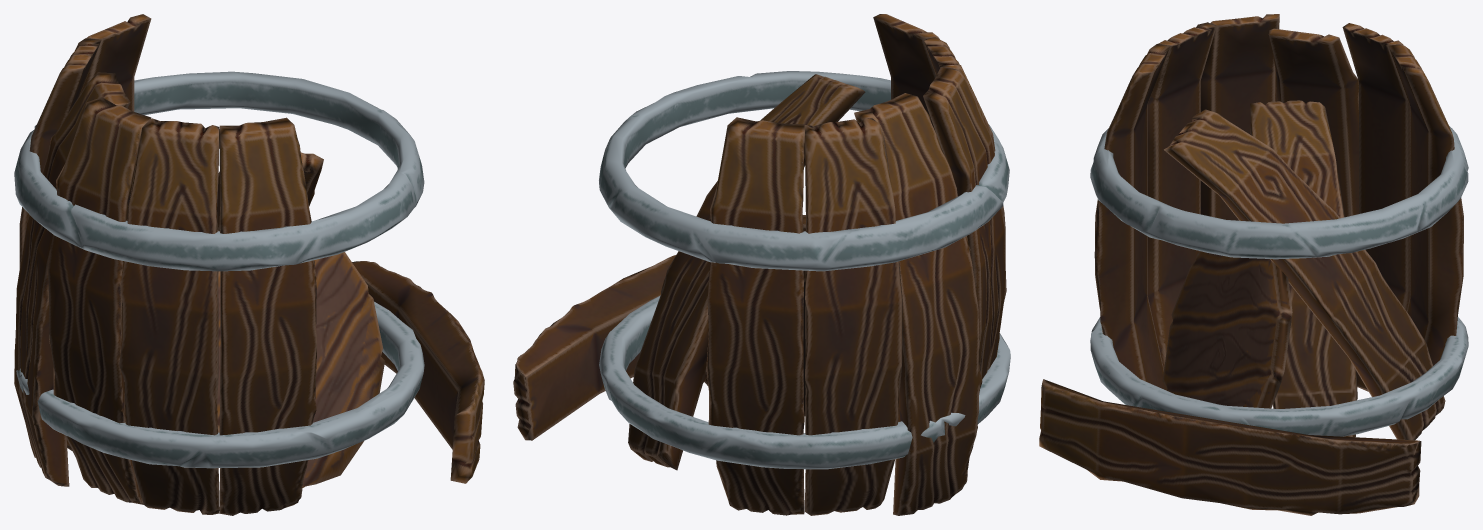
Rendered from brokeBarrel.glb.
The picture shows the model from 3 angles, left to right: view 1: azimuth 30°, elevation 25°; view 2: azimuth 150°, elevation 25°; view 3: azimuth 270°, elevation 25°; orthographic projection. The views are drawn at different scales.
Parts seen in each view (by area): view 1: BarrelBroken_02; view 2: BarrelBroken_02; view 3: BarrelBroken_02.
Part boxes in pixels (left/top/right/bottom): BarrelBroken_02: left=14, top=14, right=484, bottom=515; BarrelBroken_02: left=513, top=14, right=1010, bottom=515; BarrelBroken_02: left=1039, top=14, right=1468, bottom=515.
Bounding box in the file's own units: 0.2317 × 0.2146 × 0.2292.
1 material, 1 textured.
